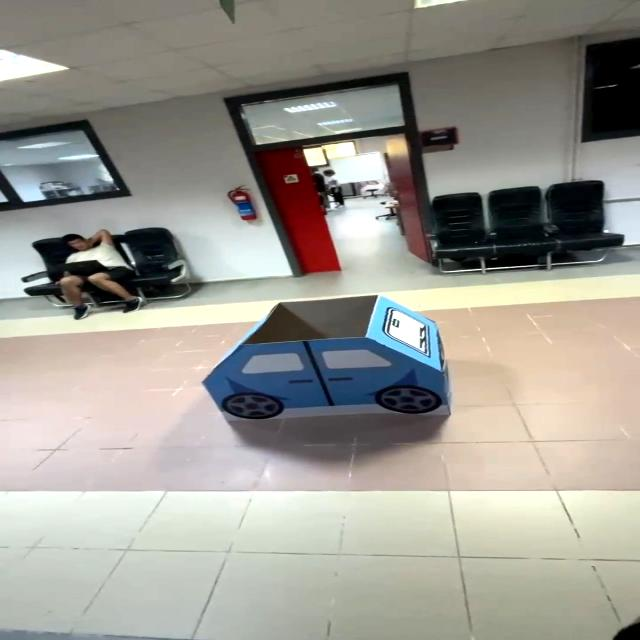blue_car: (180, 290, 484, 440)
